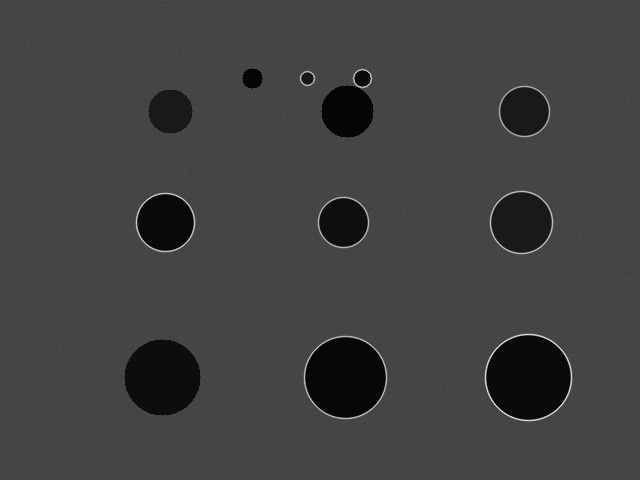hole: (485, 334, 571, 420), (304, 336, 386, 418), (124, 339, 200, 415), (490, 191, 552, 253), (136, 193, 194, 251), (321, 85, 373, 137), (499, 86, 549, 136), (318, 197, 368, 247), (148, 89, 192, 133), (242, 68, 262, 88), (353, 69, 371, 87), (300, 71, 314, 85)
